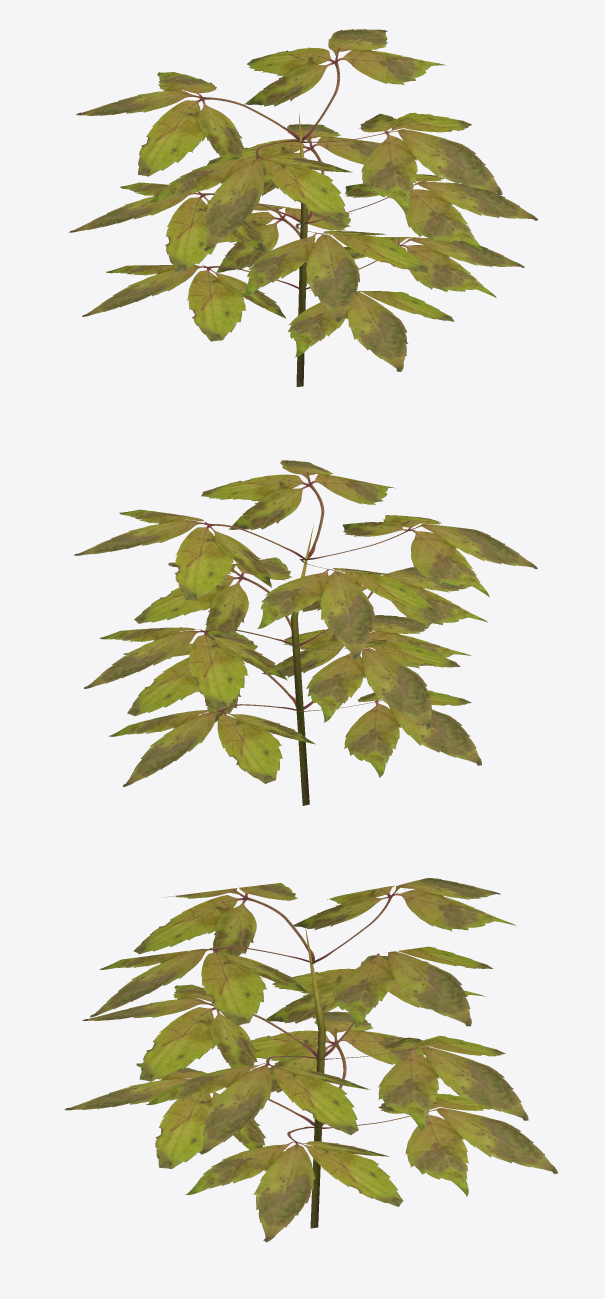
File: plant_018.dae
The picture shows the model from 3 angles, top to bottom: view 1: azimuth 30°, elevation 25°; view 2: azimuth 150°, elevation 25°; view 3: azimuth 270°, elevation 25°; orthographic projection. The views are drawn at different scales.
Parts seen in each view (by area): view 1: Plant_018; view 2: Plant_018; view 3: Plant_018.
Boxes of the visible parts, box(x1,y1,x2,y2) form: Plant_018: box(69, 29, 538, 386); Plant_018: box(74, 460, 537, 805); Plant_018: box(64, 878, 557, 1242).
Bounding box in the file's own units: 2.92 × 1.73 × 2.87.
